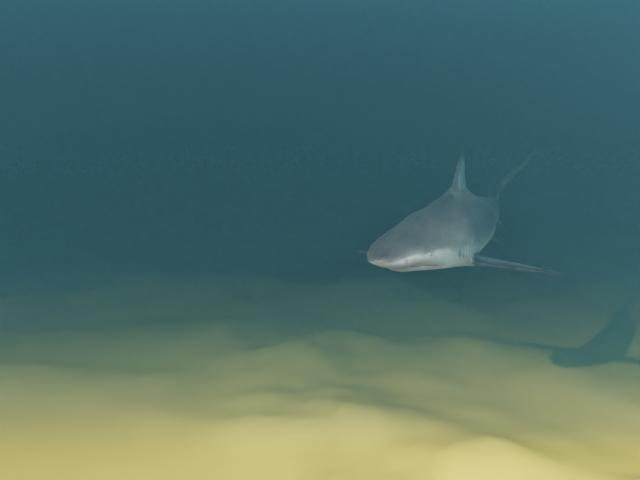Carribean Shark.001: (357, 150, 561, 274)
